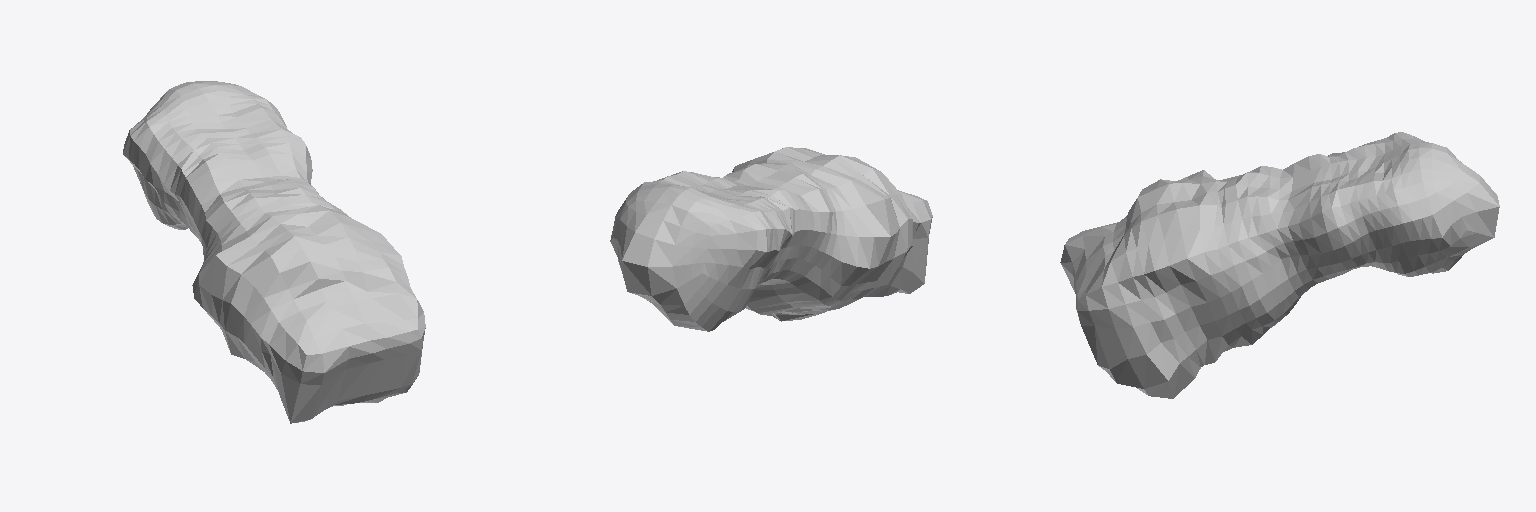
Rendered from rock041.obj.
3 views of the same model, side by side, from view 1: azimuth 30°, elevation 25°; view 2: azimuth 150°, elevation 25°; view 3: azimuth 270°, elevation 25° (orthographic).
Visible parts, largest first — view 1: rockwall_b010; view 2: rockwall_b010; view 3: rockwall_b010.
Part boxes in pixels (x1,y1,x2,y2): rockwall_b010: (123,81,425,423); rockwall_b010: (610,147,932,331); rockwall_b010: (1060,132,1499,398).
Bounding box in the file's own units: 2163 × 2617 × 4583.